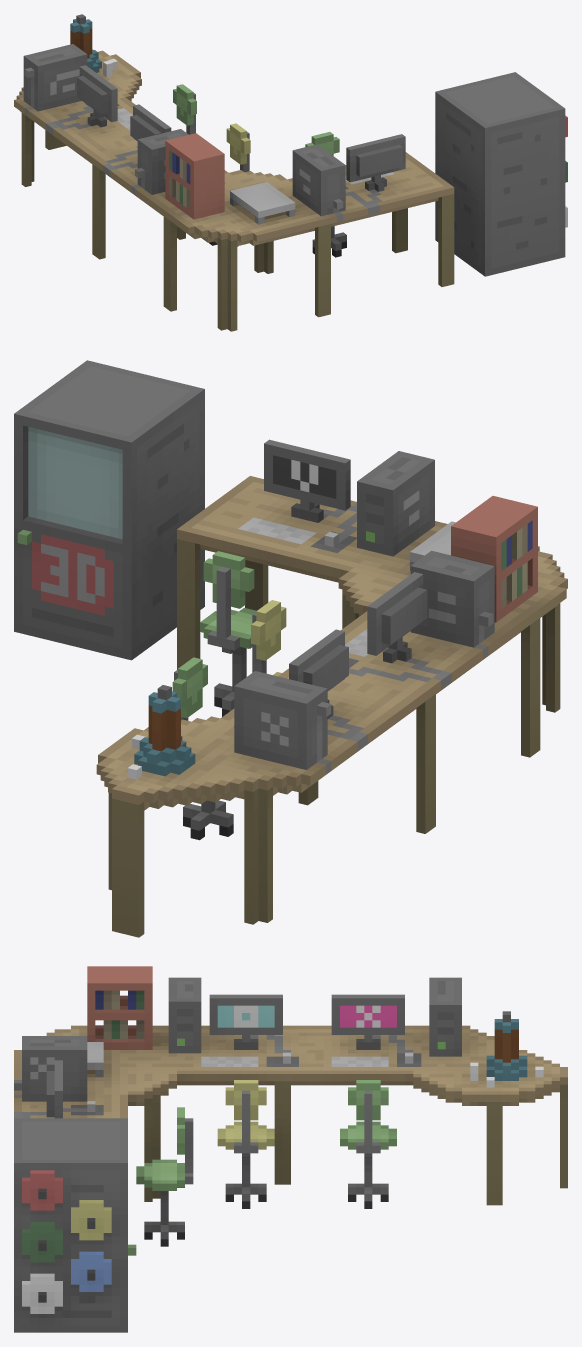
3 renders of one model, top to bottom at view 1: azimuth 30°, elevation 25°; view 2: azimuth 150°, elevation 25°; view 3: azimuth 270°, elevation 25°, orthographic. The views are drawn at different scales.
Visible parts, largest first — view 1: Geode; view 2: Geode; view 3: Geode.
Boxes of the visible parts, x1=… form: Geode: x1=14, y1=14, x2=567, y2=331; Geode: x1=14, y1=360, x2=567, y2=937; Geode: x1=14, y1=966, x2=567, y2=1332.
Size of the model in its own units: 59 by 24 by 68.
